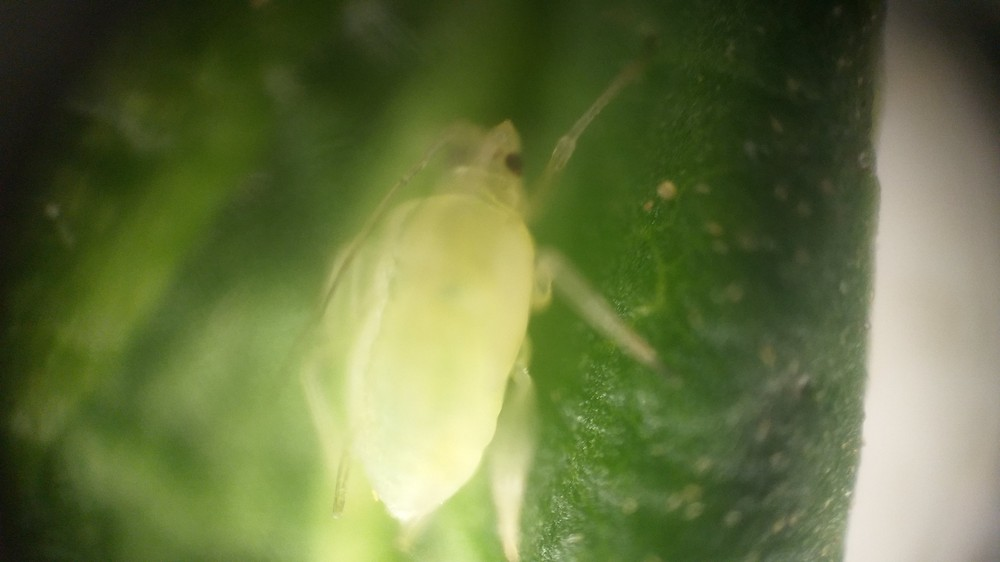Pulgon: (262, 63, 702, 558)
